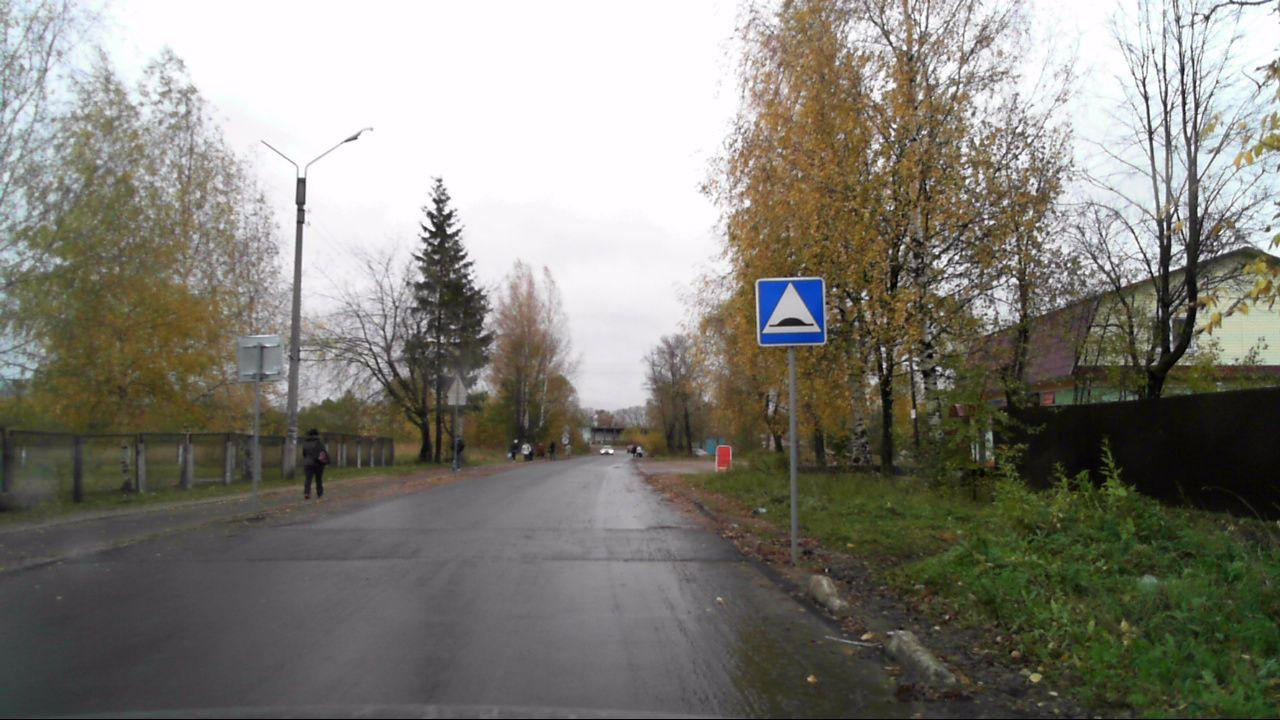5_20: (756, 276, 825, 345)
